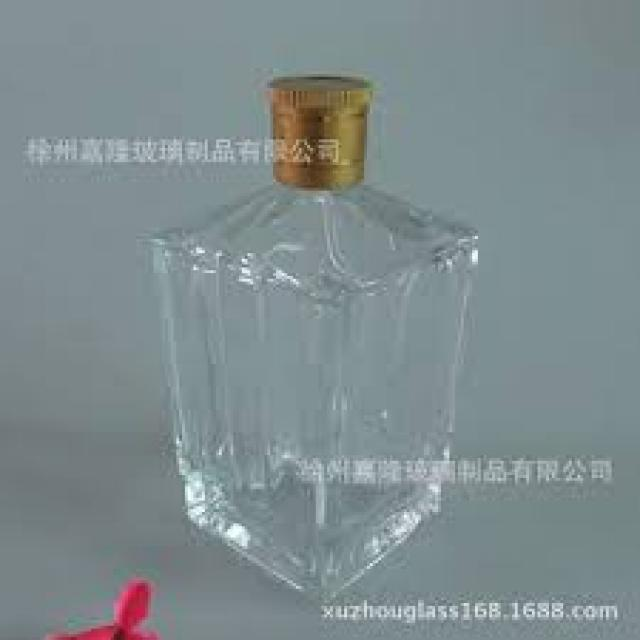Glass-Non-Biodegradable but Recyclable-: (148, 86, 489, 606)
